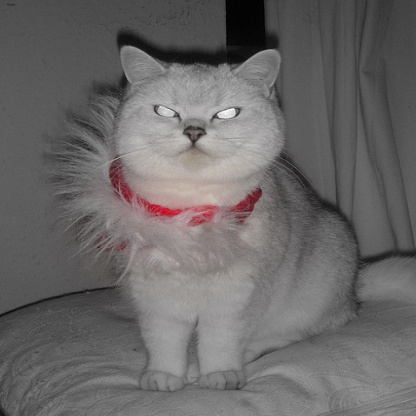british_shorthair: (55, 45, 361, 391)
